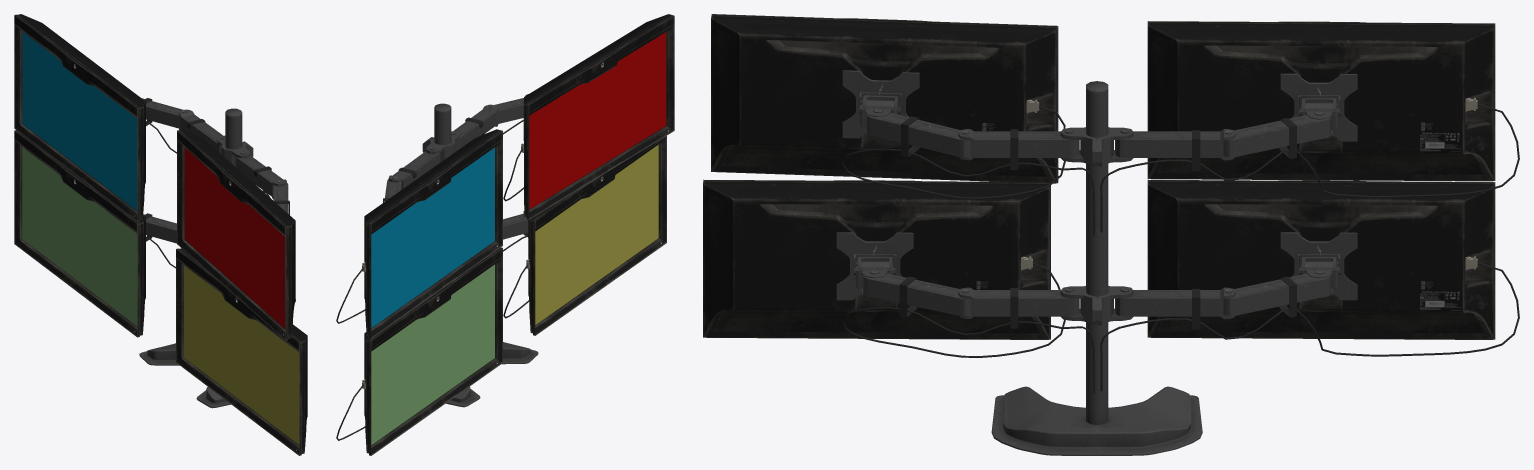
Rendered from monitor_arm.fbx.
The picture shows the model from 3 angles, left to right: view 1: azimuth 30°, elevation 25°; view 2: azimuth 150°, elevation 25°; view 3: azimuth 270°, elevation 25°; orthographic projection. The views are drawn at different scales.
Parts seen in each view (by area): view 1: polySurface848; view 2: polySurface848; view 3: polySurface848.
Boxes of the visible parts, bbox=[...] form: polySurface848: bbox=[14, 14, 307, 455]; polySurface848: bbox=[336, 14, 674, 455]; polySurface848: bbox=[703, 14, 1519, 455].
Bounding box in the file's own units: 0.3679 × 0.7918 × 1.61.
